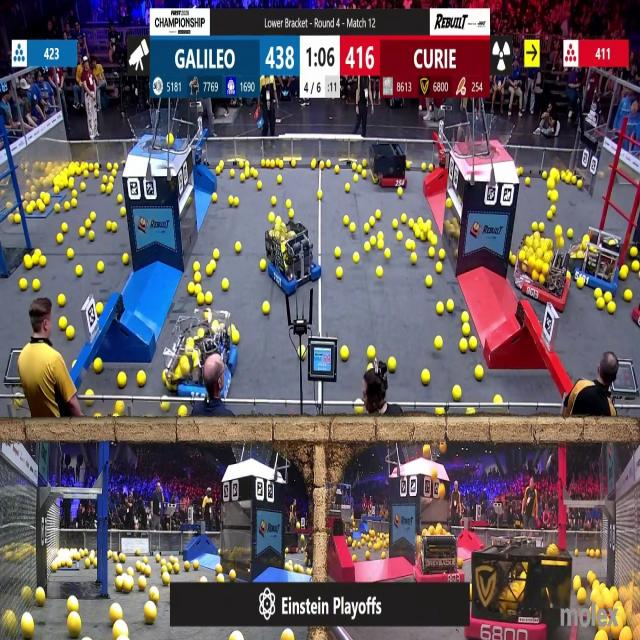ball_airborne: (550, 168, 560, 181), (439, 484, 446, 499), (422, 446, 430, 459), (556, 225, 563, 236), (552, 190, 558, 200), (548, 178, 554, 188), (558, 238, 564, 248), (169, 136, 174, 146), (431, 467, 436, 477)
ball_ground: (68, 612, 82, 640), (23, 616, 35, 639), (144, 602, 156, 624), (112, 623, 127, 640), (110, 604, 121, 620), (36, 589, 45, 607), (68, 597, 78, 612), (137, 372, 146, 387), (94, 357, 103, 372), (149, 588, 158, 602), (576, 590, 585, 604), (117, 373, 125, 388), (342, 346, 350, 361), (388, 357, 396, 372), (454, 386, 462, 400), (474, 365, 482, 379), (25, 255, 33, 269), (115, 400, 123, 414), (282, 630, 293, 640), (122, 581, 131, 593), (366, 347, 374, 360), (468, 339, 476, 352), (422, 371, 429, 385), (264, 302, 271, 316), (233, 332, 240, 346), (434, 338, 442, 350), (461, 323, 469, 335), (18, 279, 26, 291), (625, 290, 633, 302), (207, 264, 215, 276), (621, 268, 629, 280), (460, 340, 467, 353), (436, 301, 443, 314), (115, 576, 122, 589), (60, 318, 68, 329), (588, 571, 596, 582), (447, 301, 454, 313), (164, 572, 171, 584), (67, 326, 74, 338), (337, 268, 344, 280), (221, 280, 228, 292), (205, 292, 212, 304), (139, 576, 146, 588), (198, 292, 205, 304), (97, 304, 104, 316), (573, 576, 580, 588), (178, 408, 186, 418), (193, 284, 201, 294), (355, 407, 363, 417), (631, 248, 639, 258), (98, 263, 105, 274), (188, 283, 195, 294), (193, 273, 200, 284), (632, 263, 639, 274), (213, 249, 220, 260), (408, 240, 415, 251), (597, 300, 604, 311), (173, 563, 180, 574), (60, 294, 66, 306), (68, 248, 74, 260), (412, 252, 418, 264), (418, 232, 426, 241), (461, 313, 468, 323), (607, 304, 614, 314), (435, 264, 442, 274), (377, 268, 384, 278), (378, 240, 385, 250), (494, 394, 501, 404), (363, 242, 370, 252), (183, 562, 190, 572), (429, 236, 436, 246), (41, 192, 48, 202), (122, 253, 128, 264), (34, 280, 40, 291), (426, 276, 432, 287), (76, 267, 82, 278), (236, 242, 242, 253), (260, 261, 266, 272), (58, 234, 64, 245), (440, 249, 446, 260), (336, 247, 342, 258), (466, 410, 474, 418), (163, 401, 170, 410), (269, 213, 276, 222), (128, 567, 135, 576), (91, 212, 98, 221), (604, 292, 611, 301), (518, 168, 525, 177), (40, 256, 46, 266), (577, 279, 583, 289), (90, 232, 96, 242), (596, 288, 602, 298), (567, 230, 573, 240), (376, 210, 382, 220), (350, 222, 356, 232), (396, 232, 402, 242), (192, 560, 198, 570), (216, 564, 222, 574), (116, 564, 122, 574), (65, 202, 71, 212), (145, 566, 151, 576), (410, 218, 416, 228), (231, 570, 237, 580), (68, 178, 74, 188), (425, 220, 431, 230), (136, 562, 142, 572), (217, 574, 224, 582), (192, 264, 199, 272), (438, 409, 445, 417), (87, 398, 94, 406), (244, 170, 251, 178), (385, 248, 390, 259), (212, 192, 218, 201), (62, 223, 68, 232), (79, 229, 85, 238), (107, 184, 113, 193), (428, 248, 434, 257), (370, 238, 376, 247), (546, 211, 552, 220), (316, 189, 322, 198), (368, 217, 374, 226), (13, 214, 19, 223), (251, 169, 257, 178), (56, 204, 62, 213), (39, 204, 45, 213), (95, 170, 101, 179), (276, 214, 282, 223), (407, 162, 413, 171), (354, 252, 359, 262), (344, 215, 349, 225), (256, 180, 261, 190), (107, 220, 112, 230), (227, 197, 232, 207), (34, 249, 41, 256), (119, 208, 125, 216), (532, 222, 538, 230), (288, 210, 294, 218), (71, 200, 77, 208), (100, 184, 106, 192), (290, 161, 296, 169), (524, 177, 530, 185), (231, 170, 237, 178), (286, 201, 292, 209), (88, 389, 94, 397), (546, 190, 552, 198), (311, 162, 317, 170), (88, 220, 94, 228), (397, 187, 403, 195), (28, 206, 34, 214), (418, 217, 424, 225), (541, 172, 547, 180), (381, 553, 387, 561), (218, 162, 224, 170), (596, 634, 604, 640), (278, 162, 284, 170), (366, 363, 372, 371), (325, 162, 331, 170), (539, 222, 544, 231), (235, 198, 240, 207), (392, 219, 397, 228), (400, 214, 405, 223), (205, 311, 210, 320), (447, 200, 452, 209), (512, 255, 517, 264), (276, 176, 282, 183), (82, 171, 88, 178), (566, 273, 572, 280), (112, 164, 118, 171), (80, 182, 85, 190), (364, 224, 369, 232), (120, 195, 124, 205), (241, 174, 246, 182), (379, 233, 384, 241), (422, 162, 427, 170), (576, 180, 581, 188), (155, 555, 160, 563), (336, 166, 341, 174), (103, 175, 108, 183), (362, 170, 366, 180), (364, 553, 369, 561), (594, 550, 598, 560), (319, 162, 324, 170), (119, 555, 124, 563), (571, 176, 576, 184), (90, 164, 95, 172), (348, 536, 353, 544), (108, 552, 113, 560), (272, 198, 276, 207), (85, 560, 89, 569), (353, 175, 358, 182), (72, 190, 77, 197), (107, 165, 112, 172), (56, 186, 61, 193), (346, 183, 350, 191), (112, 222, 116, 230), (362, 161, 366, 169), (588, 550, 592, 558), (201, 576, 206, 582), (352, 556, 357, 562), (574, 551, 579, 557), (216, 168, 220, 175), (352, 165, 356, 172), (552, 206, 556, 213), (144, 557, 148, 564), (164, 375, 168, 382), (112, 170, 115, 177), (218, 550, 221, 557)
goal: (460, 119, 516, 158), (129, 115, 188, 152)
robot_blue: (166, 310, 232, 405), (265, 218, 320, 295), (573, 230, 624, 292)
robot_red: (468, 544, 545, 636), (516, 236, 572, 310), (415, 522, 457, 581), (371, 142, 408, 189), (632, 282, 640, 328)
